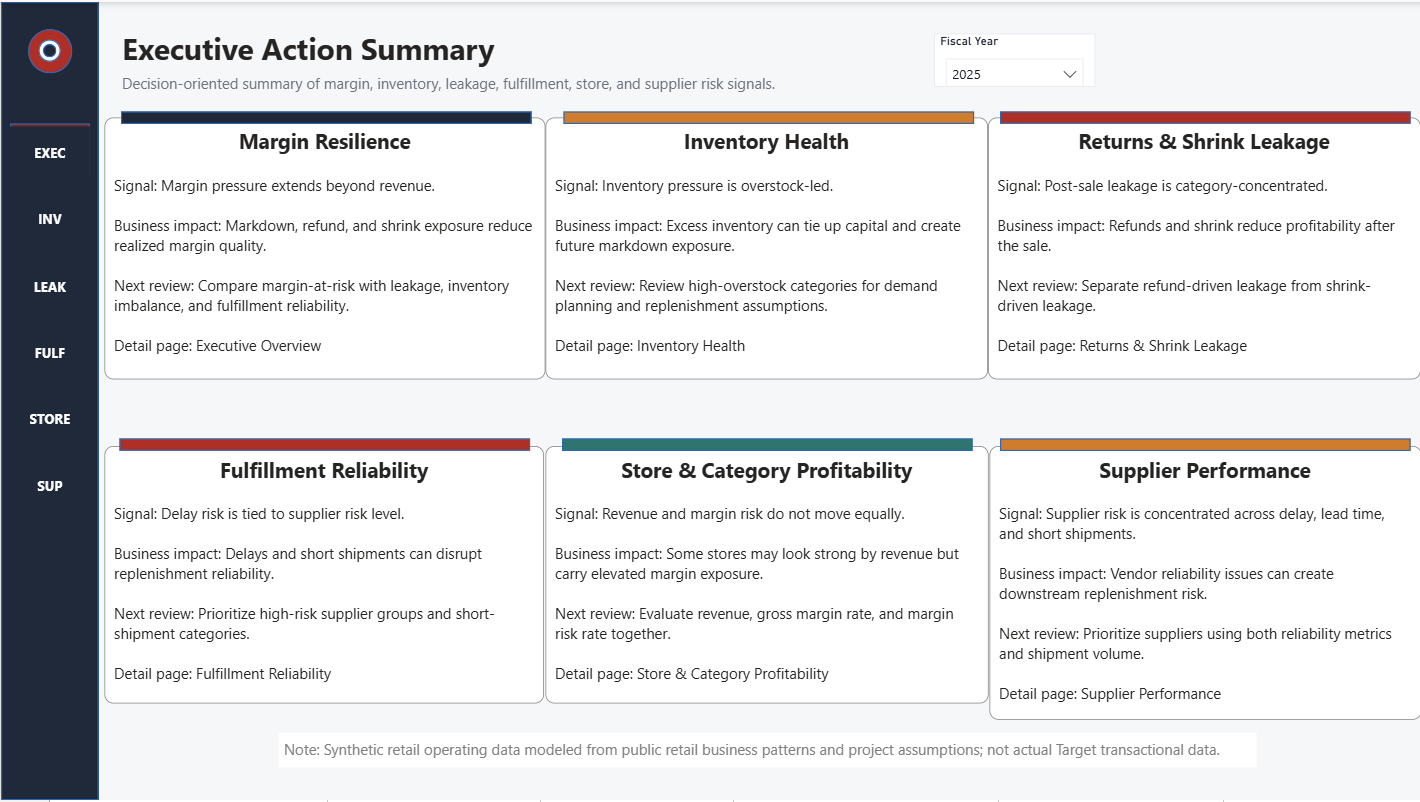

The page's visual inventory and layout, read from the dashboard file:
{"tool":"powerbi","page":{"name":"Executive Action Summary","canvas":[1280,720],"ordinal":0},"visuals":[{"type":"shape","box":[0,0,88,720],"z":0},{"type":"shape","box":[24,24,40,40],"z":1000},{"type":"shape","box":[34,34,20,20],"z":2000},{"type":"shape","box":[38,38,12,12],"z":3000},{"type":"shape","box":[7.6,110,72,48],"z":4000},{"type":"actionButton","box":[8,112,72,48],"z":6000},{"type":"actionButton","box":[8,172,72,48],"z":7000},{"type":"actionButton","box":[8,232,72,48],"z":8000},{"type":"actionButton","box":[8,292,72,48],"z":9000},{"type":"actionButton","box":[8,352,72,48],"z":10000},{"type":"actionButton","box":[8,412,72,48],"z":11000},{"type":"textbox","box":[104.5,0,375.5,75.7],"z":12000},{"type":"textbox","box":[103.7,58.8,608.6,45],"z":13000},{"type":"slicer","title":"Fiscal Year","fields":{"Values":["Dim Fiscal Year.fiscal_year"]},"box":[840.4,28,145,48],"z":14000},{"type":"textbox","box":[93.8,103.8,397.5,236.2],"z":15000},{"type":"textbox","box":[491.2,103.8,398.8,236.2],"z":16000},{"type":"textbox","box":[890,103.8,390,236.2],"z":17000},{"type":"textbox","box":[93.2,399.5,396.3,232.1],"z":18000},{"type":"textbox","box":[491.1,399.5,399.5,232.1],"z":19000},{"type":"textbox","box":[890.4,399.8,389.2,246.8],"z":20000},{"type":"shape","box":[107.5,98.8,370,11.2],"z":21000},{"type":"shape","box":[506.2,98,370,11.2],"z":22000},{"type":"shape","box":[900,98,370,11],"z":23000},{"type":"shape","box":[107,394,370,11],"z":24000},{"type":"shape","box":[506,394,370,11.2],"z":25000},{"type":"shape","box":[900,394,370,11.2],"z":26000},{"type":"textbox","box":[249.5,658.4,881.1,31.6],"z":27000}]}

Visuals, with their boxes on the page's 1280x720 design canvas (x1, y1, x2, y2). These are canvas units, not pixel positions in the 1420x802 screenshot, which may show the page scaled, cropped or inside an application window:
shape: left=0, top=0, right=88, bottom=720
shape: left=24, top=24, right=64, bottom=64
shape: left=34, top=34, right=54, bottom=54
shape: left=38, top=38, right=50, bottom=50
shape: left=8, top=110, right=80, bottom=158
actionButton: left=8, top=112, right=80, bottom=160
actionButton: left=8, top=172, right=80, bottom=220
actionButton: left=8, top=232, right=80, bottom=280
actionButton: left=8, top=292, right=80, bottom=340
actionButton: left=8, top=352, right=80, bottom=400
actionButton: left=8, top=412, right=80, bottom=460
textbox: left=104, top=0, right=480, bottom=76
textbox: left=104, top=59, right=712, bottom=104
"Fiscal Year" slicer: left=840, top=28, right=985, bottom=76
textbox: left=94, top=104, right=491, bottom=340
textbox: left=491, top=104, right=890, bottom=340
textbox: left=890, top=104, right=1280, bottom=340
textbox: left=93, top=400, right=490, bottom=632
textbox: left=491, top=400, right=891, bottom=632
textbox: left=890, top=400, right=1280, bottom=647
shape: left=108, top=99, right=478, bottom=110
shape: left=506, top=98, right=876, bottom=109
shape: left=900, top=98, right=1270, bottom=109
shape: left=107, top=394, right=477, bottom=405
shape: left=506, top=394, right=876, bottom=405
shape: left=900, top=394, right=1270, bottom=405
textbox: left=250, top=658, right=1131, bottom=690
